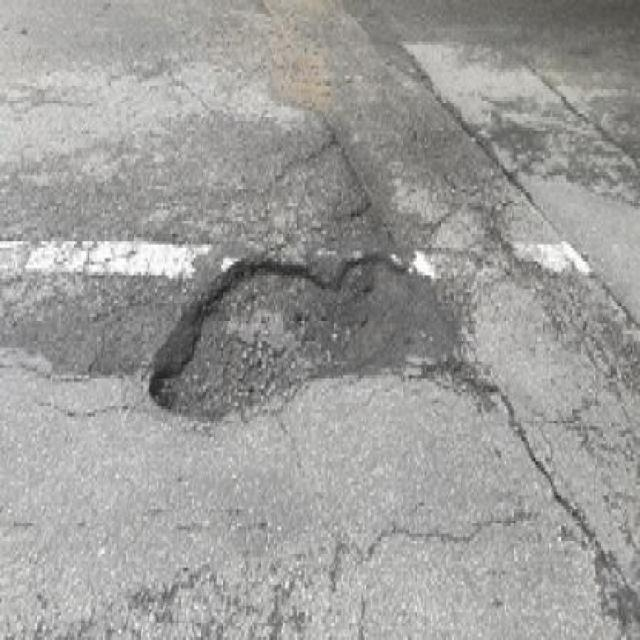Pothole: (137, 239, 475, 459)
